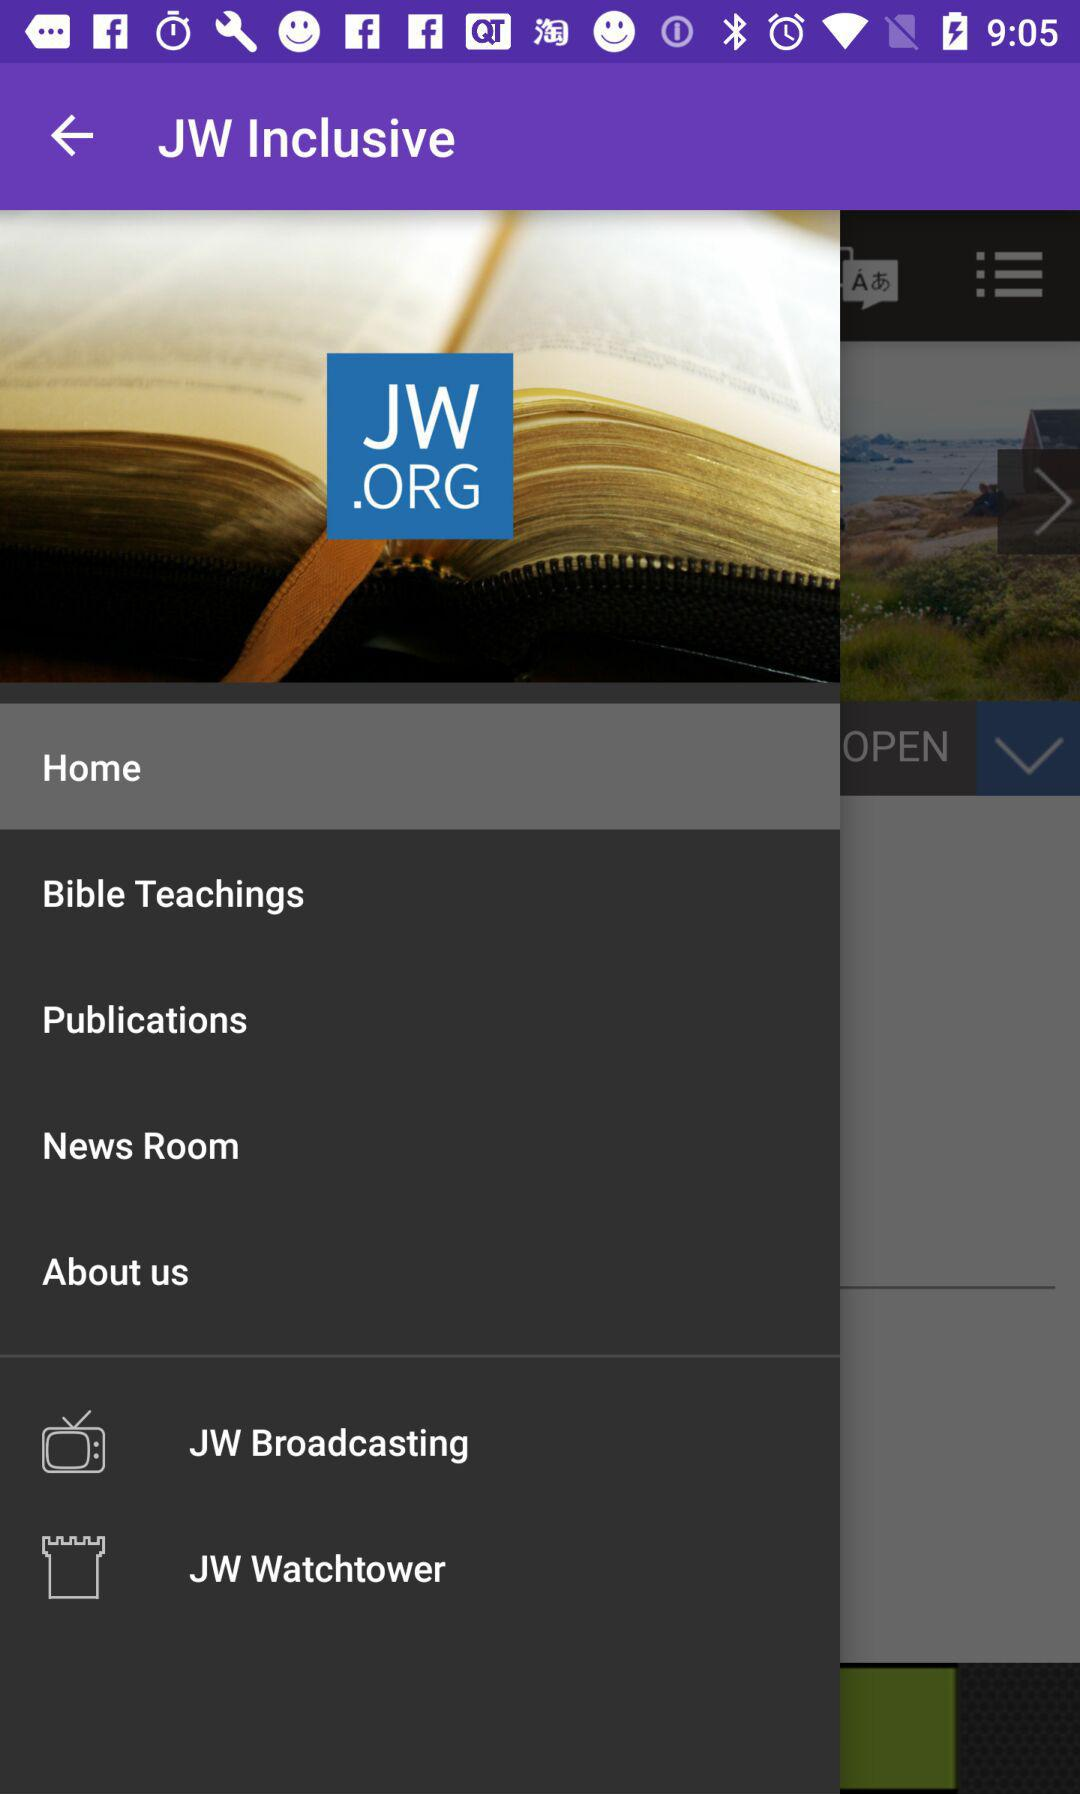Drawer: (1, 211, 840, 1794)
Icon: (50, 115, 95, 159)
Image: (1, 211, 840, 680), (327, 352, 514, 539), (41, 1410, 108, 1476), (41, 1534, 108, 1601)
Text: (158, 117, 457, 161), (42, 876, 306, 918), (188, 1428, 469, 1465), (190, 1554, 447, 1584), (42, 1002, 249, 1035), (44, 1130, 241, 1162), (42, 1256, 191, 1288), (44, 753, 143, 784)
Toolbar: (1, 65, 1080, 211)
UpperTaskBar: (1, 1, 1080, 64)
